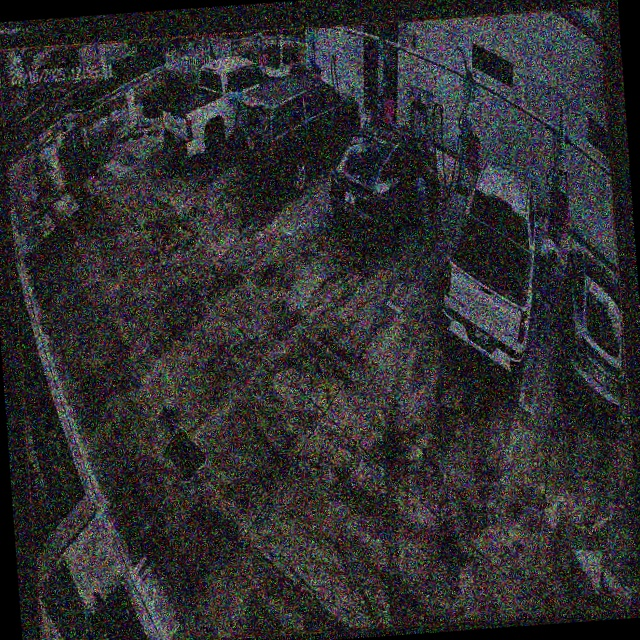Car: (431, 161, 556, 378), (229, 70, 366, 199), (327, 119, 441, 251), (158, 52, 289, 162)
